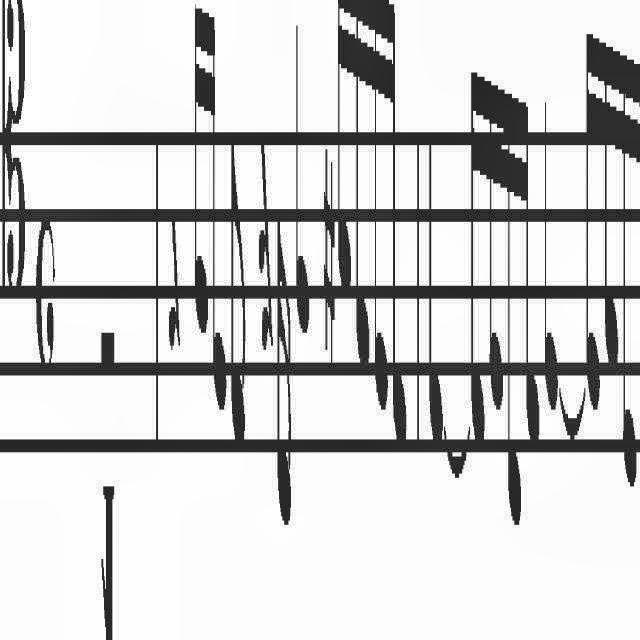Diez: (322, 142, 336, 362)
Eighth-note: (230, 135, 248, 458)
Eighth-rest: (168, 213, 184, 363)
Quarter-note: (294, 11, 310, 345), (543, 91, 559, 416), (428, 130, 444, 450)
Sixteenth-note: (619, 9, 637, 499), (504, 51, 522, 537), (389, 0, 407, 448), (209, 0, 227, 428), (352, 0, 371, 388), (372, 1, 388, 432), (469, 58, 486, 460), (523, 90, 541, 454), (486, 55, 504, 418), (584, 26, 600, 417), (276, 208, 294, 542), (602, 14, 618, 376), (192, 0, 208, 346), (336, 0, 352, 320)
